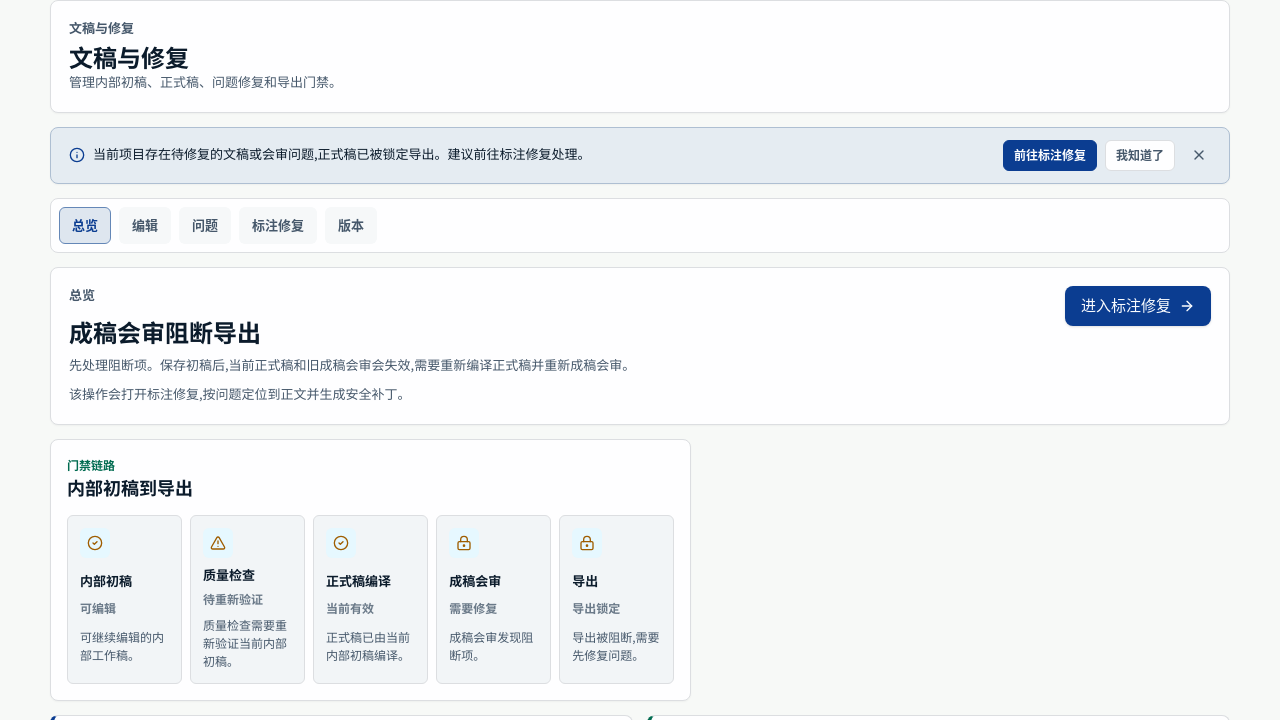
Test: DocumentRepairWorkspace › does not show full hashes in the default version chain labels
Click the tab "版本": [351, 225] box [325,207,377,244]
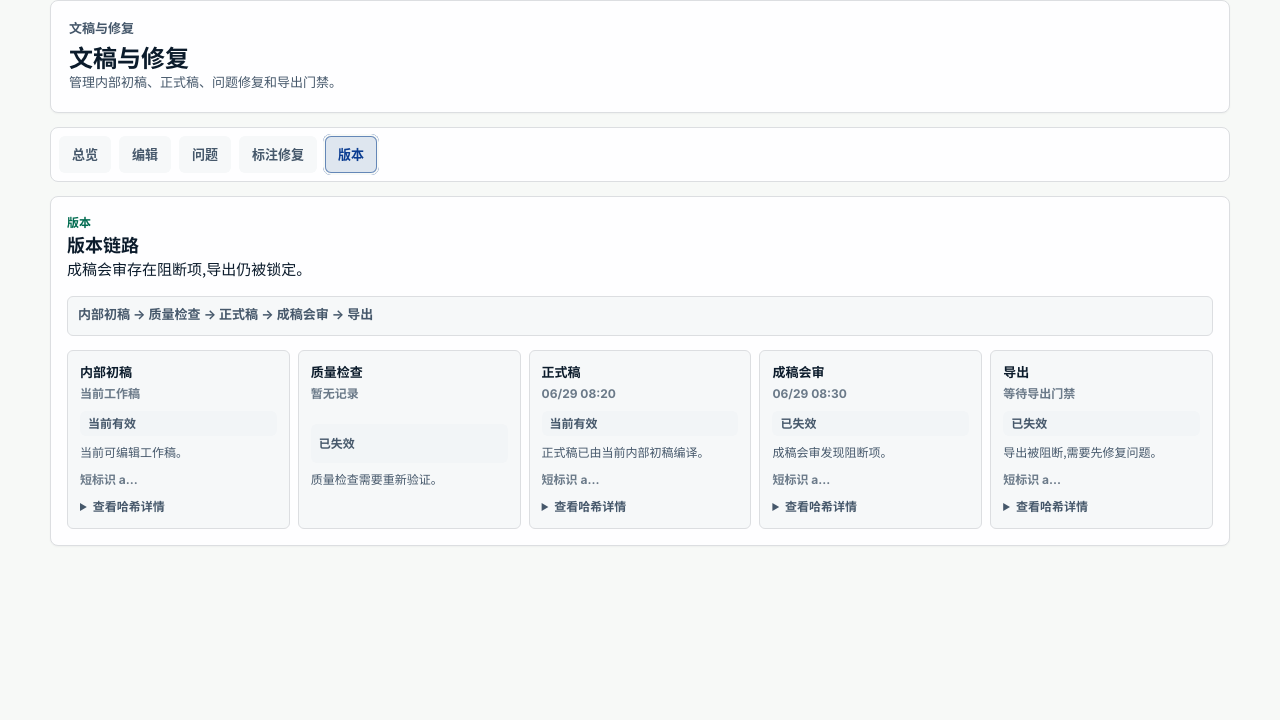
Check: the heading "查看哈希详情" below "当前工作稿" is shown, box [93,499,165,514]
